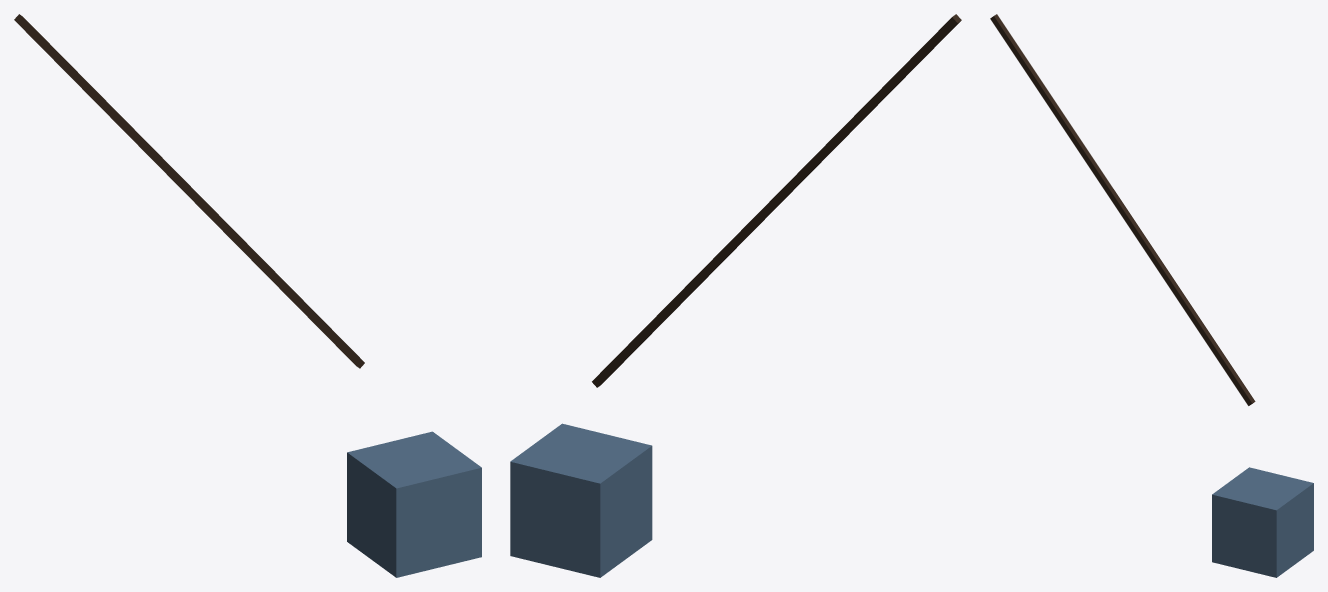
Rendered from booth-0-extra.glb.
3 renders of one model, left to right at view 1: azimuth 30°, elevation 25°; view 2: azimuth 150°, elevation 25°; view 3: azimuth 330°, elevation 25°, orthographic. The views are drawn at different scales.
Parts seen in each view (by area): view 1: 01_#55708a_r110, 00_#3a2a1e_noshadow; view 2: 01_#55708a_r110, 00_#3a2a1e_noshadow; view 3: 01_#55708a_r110, 00_#3a2a1e_noshadow.
Boxes of the visible parts, x1,y1,x2,y2 form: 01_#55708a_r110: (347, 431, 481, 577); 00_#3a2a1e_noshadow: (14, 14, 364, 368); 01_#55708a_r110: (510, 423, 652, 577); 00_#3a2a1e_noshadow: (592, 14, 961, 387); 01_#55708a_r110: (1212, 467, 1313, 577); 00_#3a2a1e_noshadow: (990, 14, 1255, 405).
Bounding box in the file's own units: 2.47 × 3.41 × 0.5.
